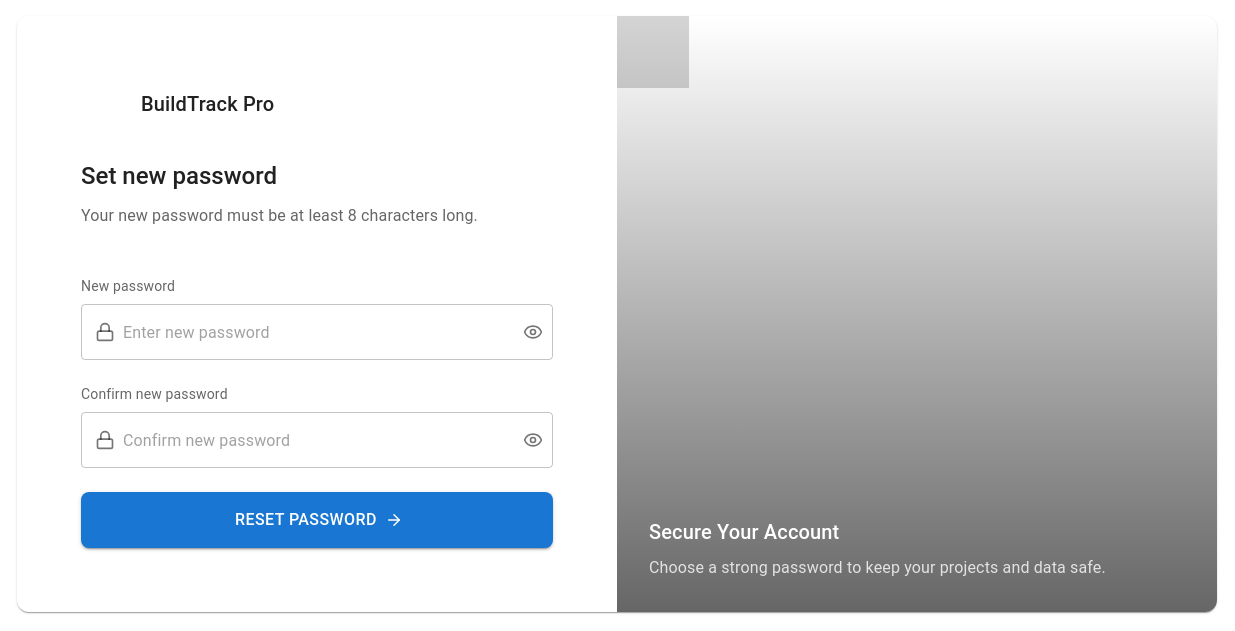
Scenario: ResetPasswordPage › shows "Password reset!" heading on success
Type "newpassword123" into the password field labelled "Enter new password". click: (315, 332)
box: [123,304,507,360]
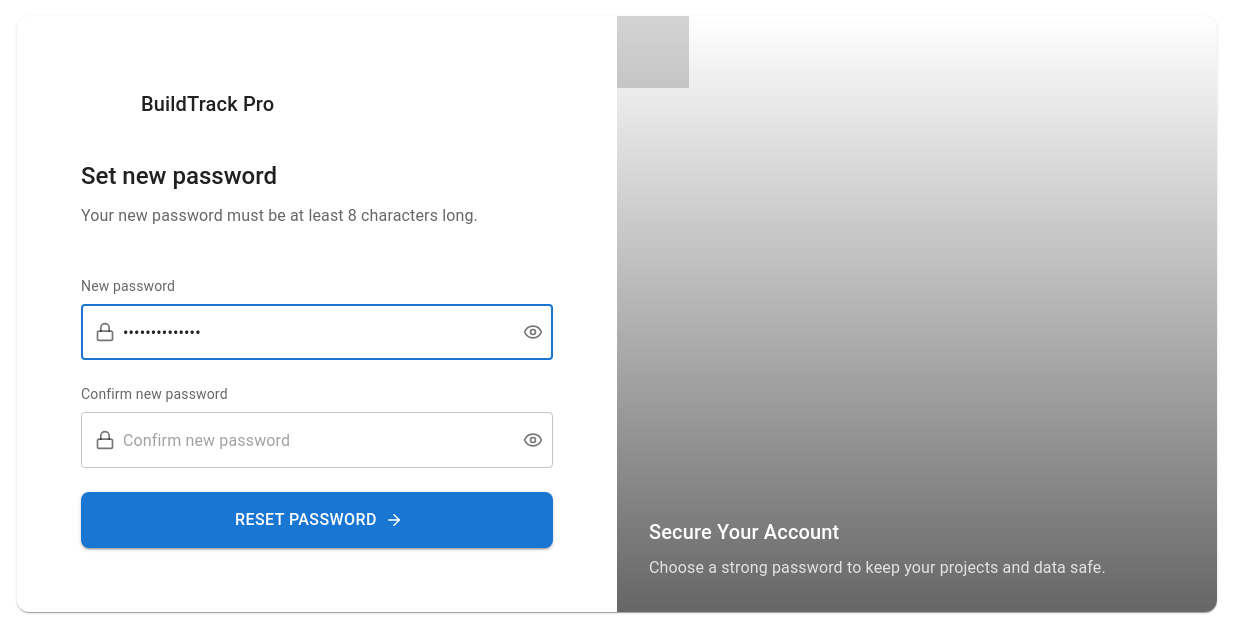
Type "newpassword123" into the password field labelled "Confirm new password". click: (315, 440)
box: [123,412,507,468]
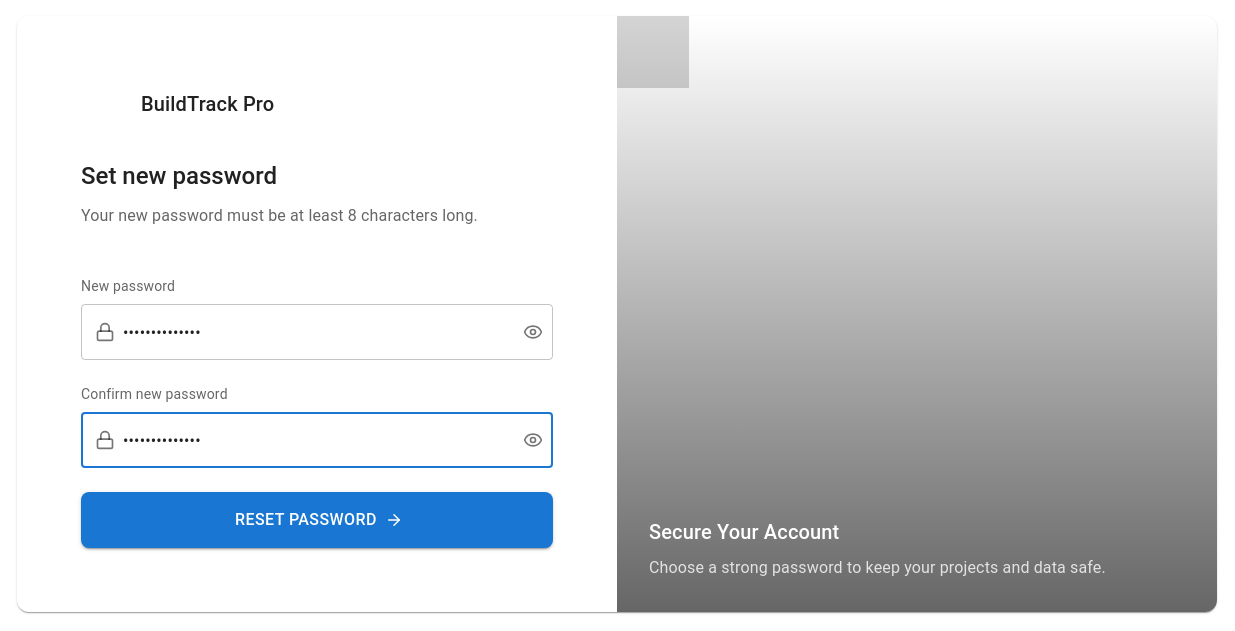
Click the button "Reset password". click: (317, 520)
box: [81,492,553,548]
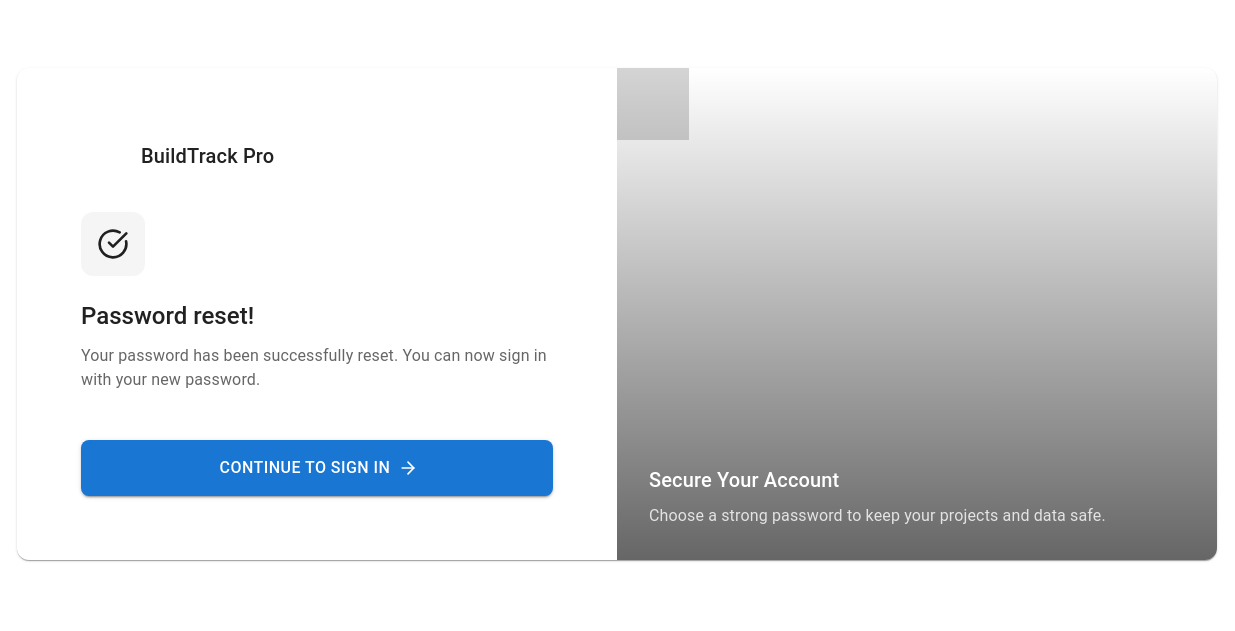
Result: the heading "Password reset!" is shown at [81,302,254,330]
